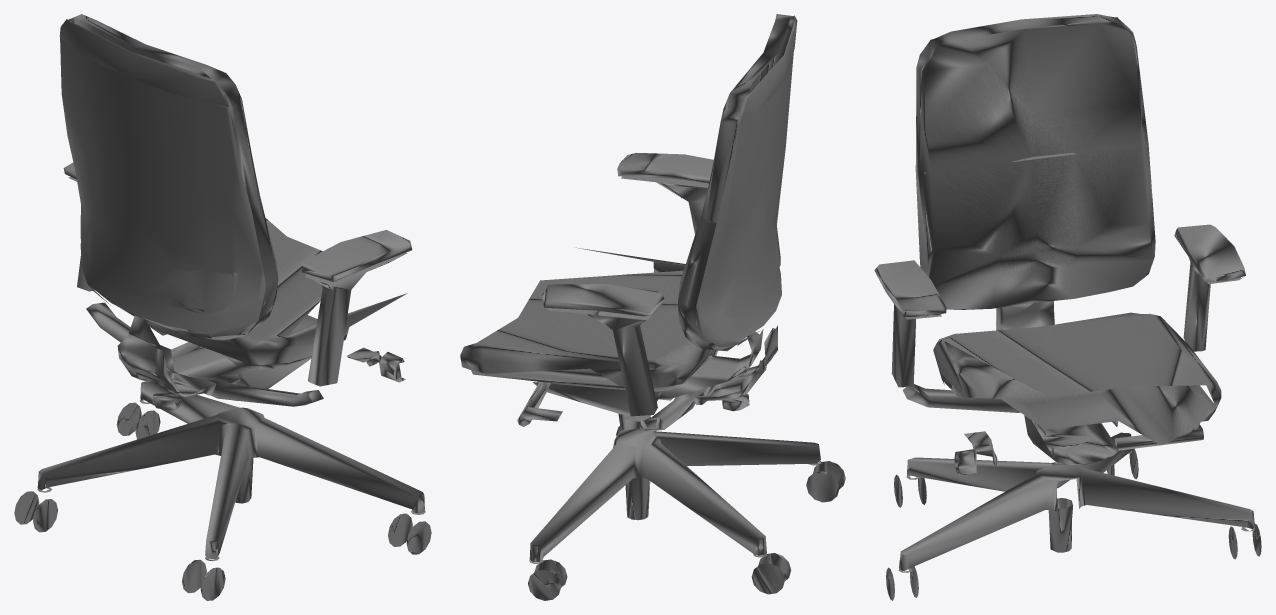
Rendered from office-chair-opt.glb.
3 renders of one model, left to right at view 1: azimuth 30°, elevation 25°; view 2: azimuth 150°, elevation 25°; view 3: azimuth 270°, elevation 25°, orthographic. The views are drawn at different scales.
Visible parts, largest first — view 1: OfficeChair; view 2: OfficeChair; view 3: OfficeChair.
Boxes of the visible parts, x1,y1,x2,y2 form: OfficeChair: [14, 14, 431, 600]; OfficeChair: [460, 14, 845, 600]; OfficeChair: [874, 14, 1261, 600].
Bounding box in the file's own units: 0.839 × 1.32 × 0.9666.
2 materials, 1 textured.
